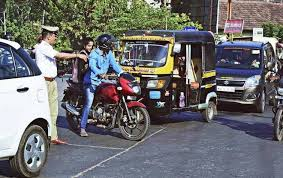helmet: (95, 33, 118, 53)
